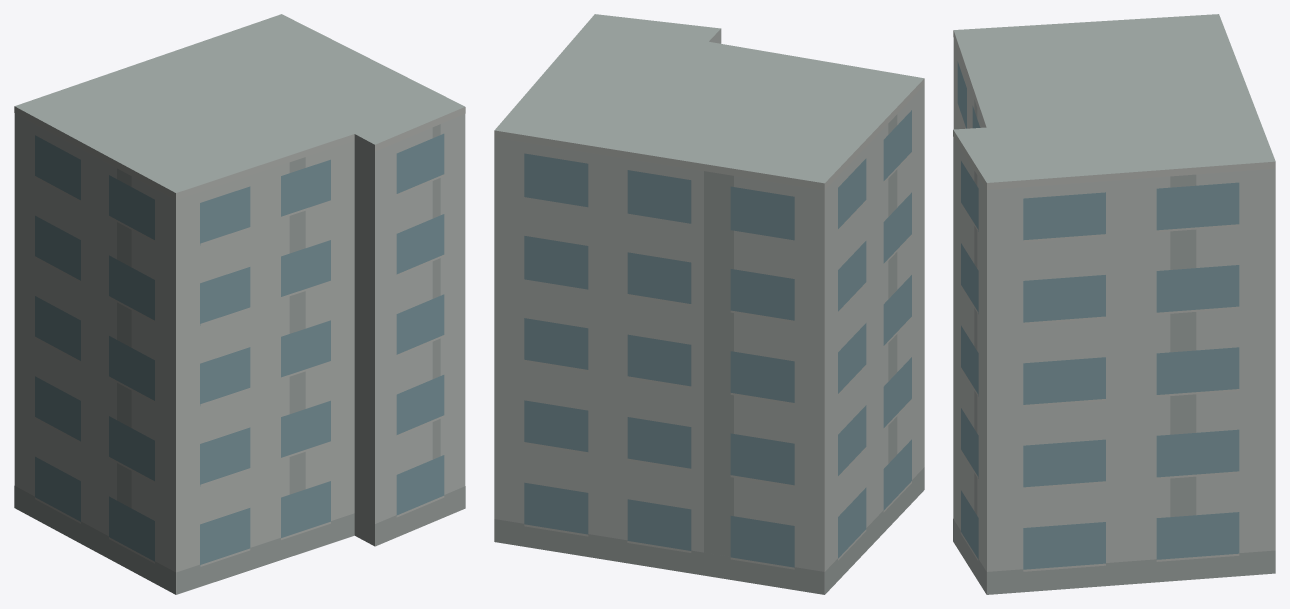
File: survey-upis-32944420.glb
3 renders of one model, left to right at view 1: azimuth 30°, elevation 25°; view 2: azimuth 150°, elevation 25°; view 3: azimuth 270°, elevation 25°, orthographic. The views are drawn at different scales.
Visible parts, largest first — view 1: survey-upis-32944420.tmp; view 2: survey-upis-32944420.tmp; view 3: survey-upis-32944420.tmp.
Part boxes in pixels (<box>): survey-upis-32944420.tmp: <box>14,14,465,594</box>; survey-upis-32944420.tmp: <box>494,14,924,594</box>; survey-upis-32944420.tmp: <box>953,14,1275,594</box>.
Size of the model in its own units: 12.5 by 14.2 by 10.09.
